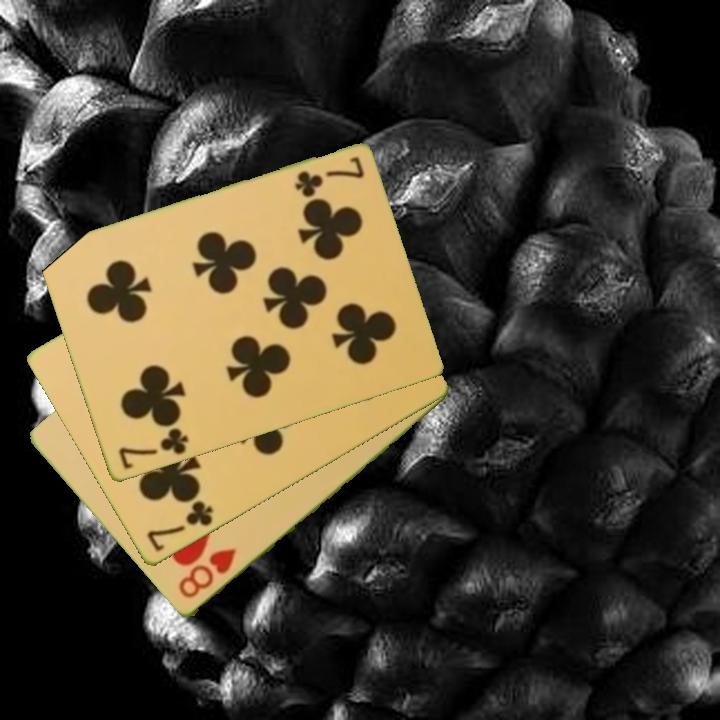7c: (143, 497, 216, 556), (114, 425, 192, 473), (291, 153, 367, 200)
8h: (175, 545, 239, 602)
